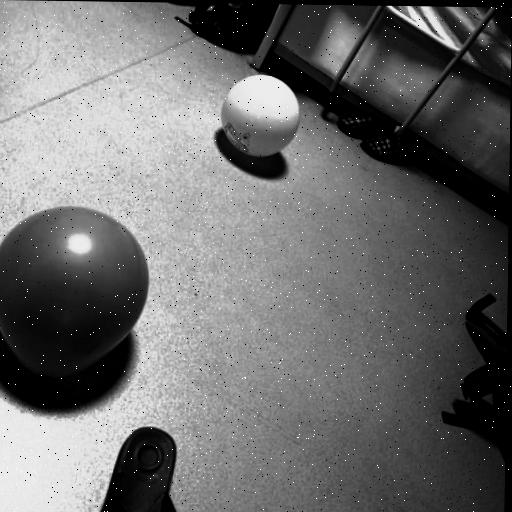balloon: (0, 206, 151, 390), (207, 73, 306, 161)
